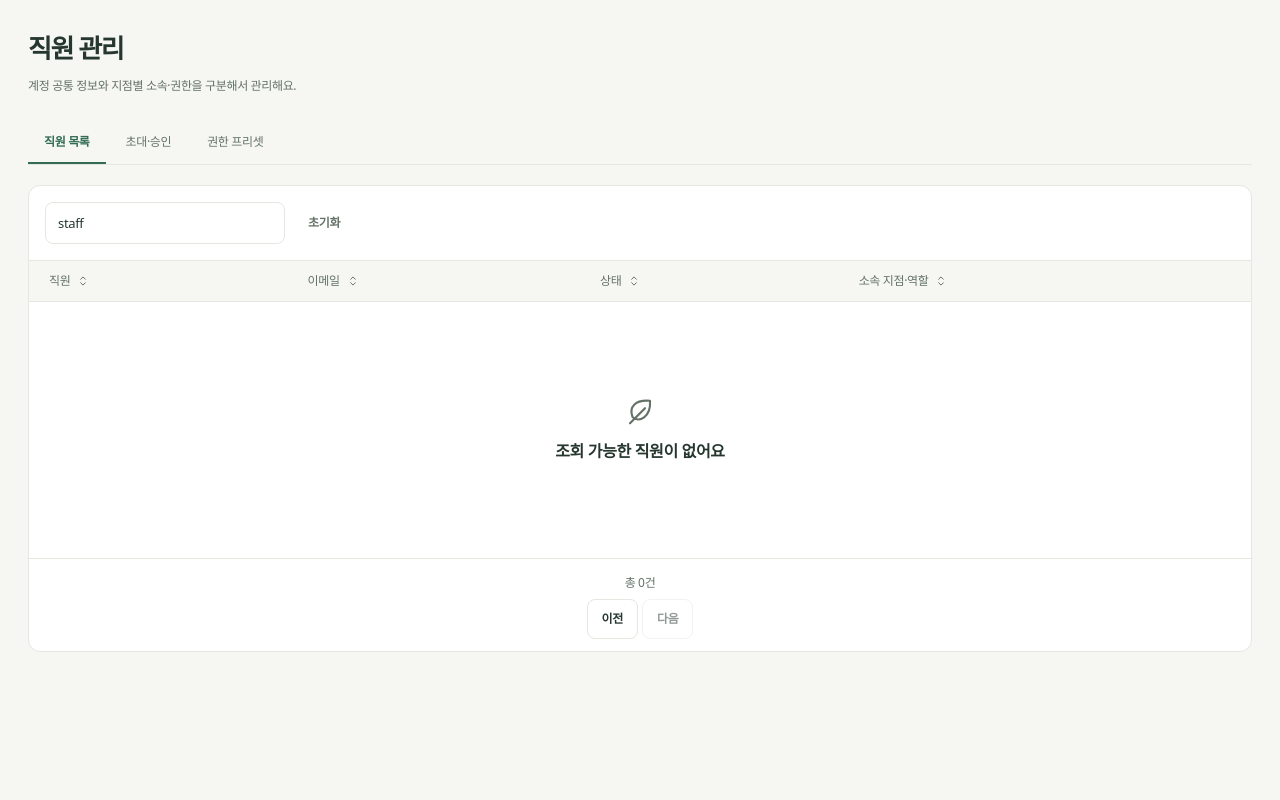
Test: lists employees in the common list layout and keeps presets in an owner-only tab
This screenshot has width=1280, height=800.
Check: the heading "조회 가능한 직원이 없어요" is shown, box [555,439,725,463]
Click the button "초기화". click: (324, 223)
box: [293,203,355,243]
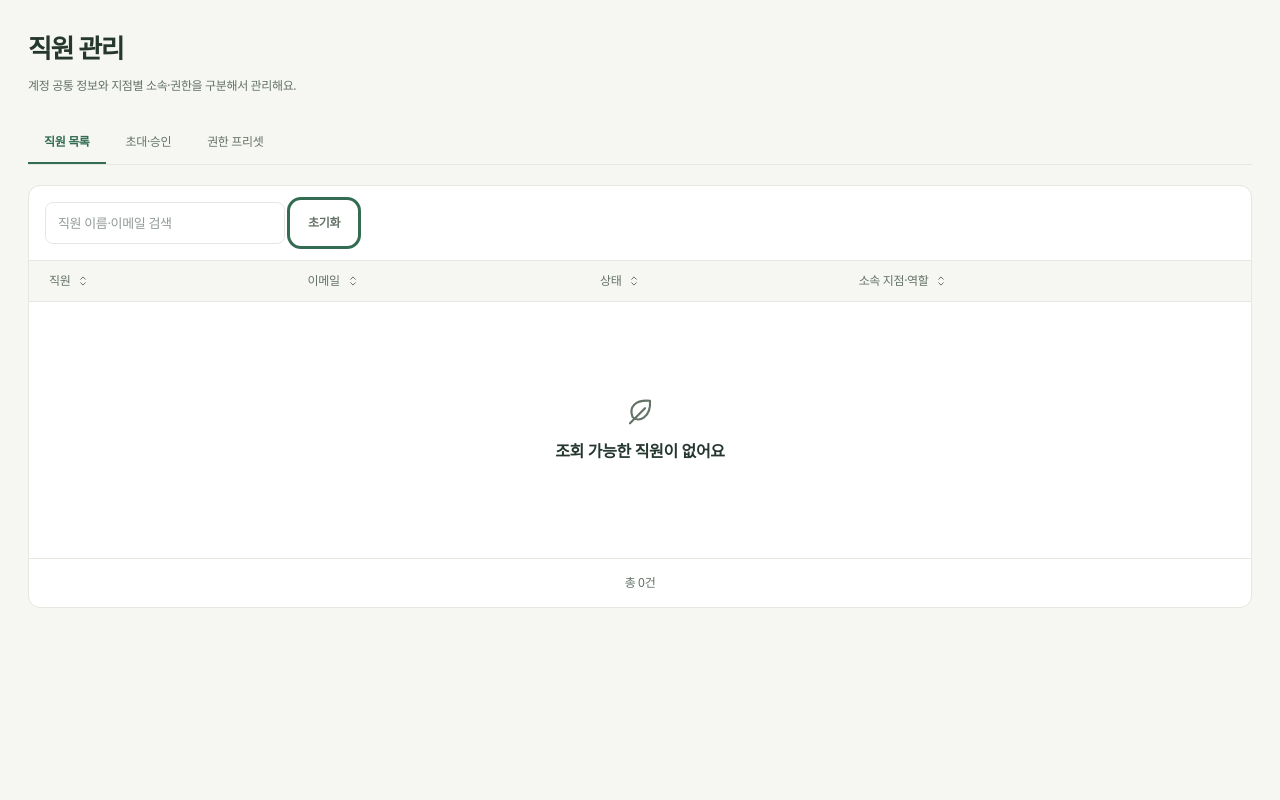
Click the tab "권한 프리셋". click: (235, 143)
box: [191,122,279,164]
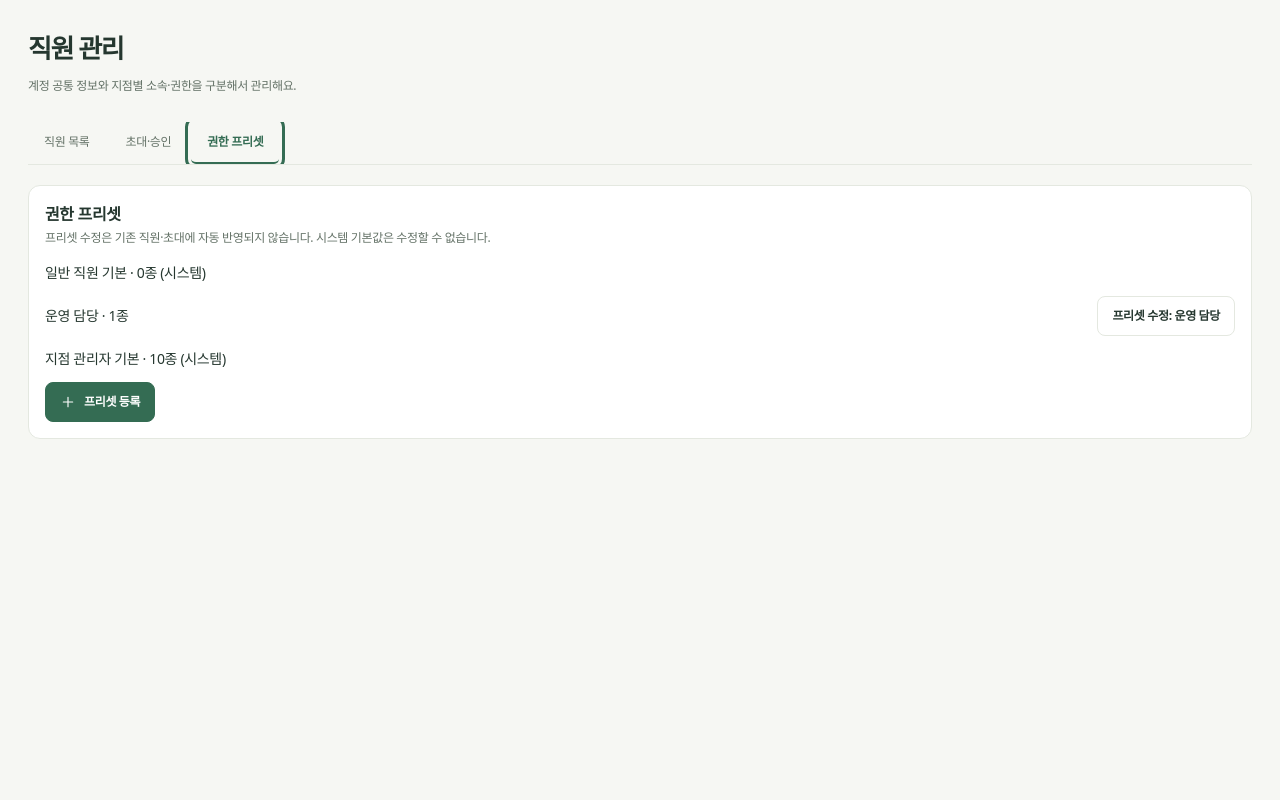
Check: the heading "권한 프리셋" is shown, box [45,203,121,225]
Check: the button "프리셋 수정: 운영 담당" is shown, box [1097,296,1235,336]
